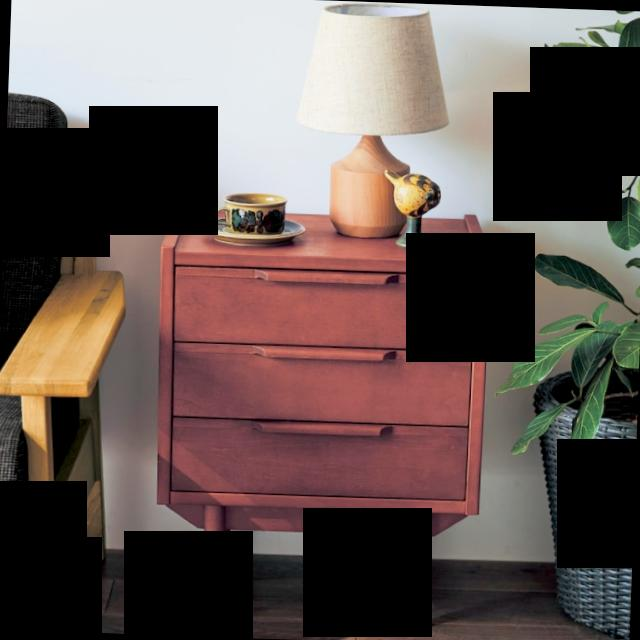vintage shelf: (150, 199, 491, 632)
